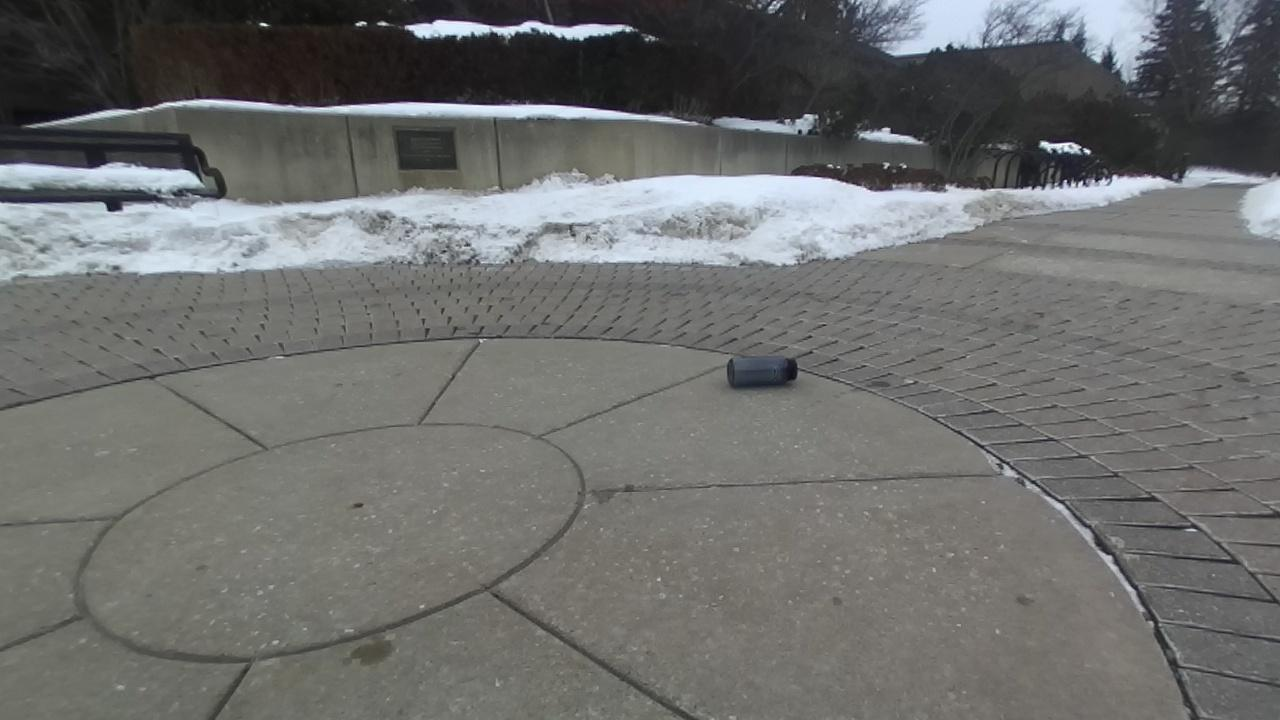bottle: (727, 356, 797, 387)
